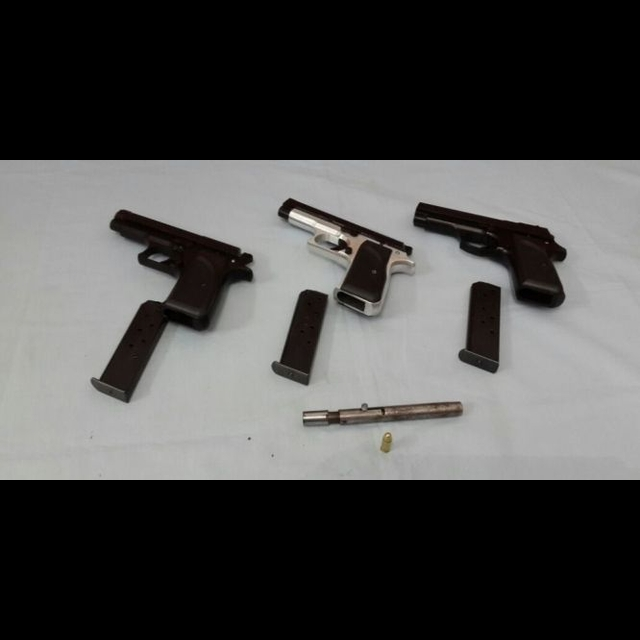SILAH: (101, 193, 263, 333), (410, 186, 596, 306), (274, 189, 421, 319)
